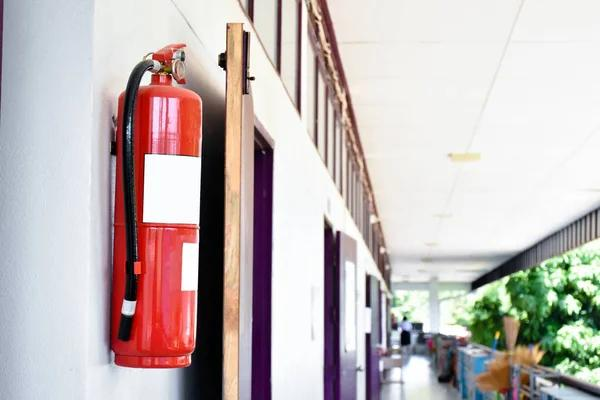wall-mounted: (98, 29, 215, 383)
